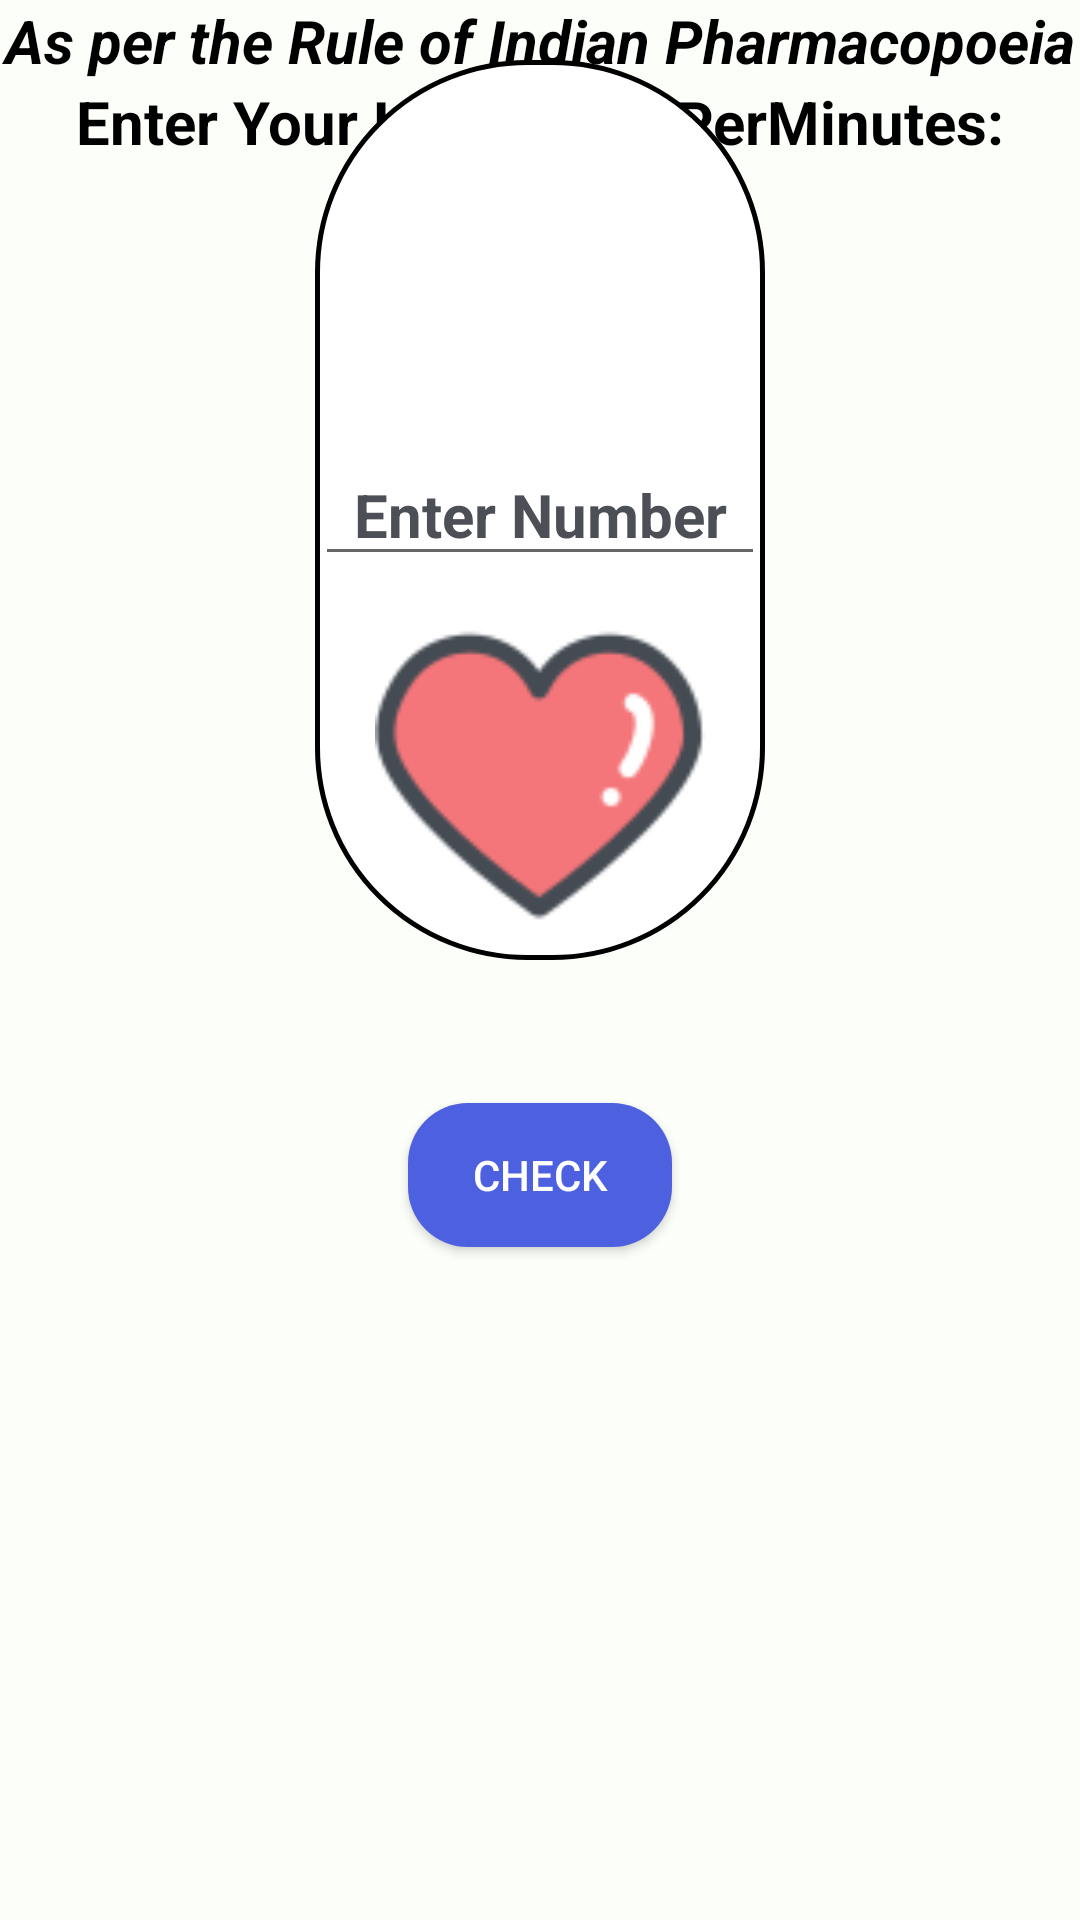

Where icons sit on this 1080px×1920px app screen, as (x1, y1, x2, y2):
heartiamge: (375, 632, 703, 919)
